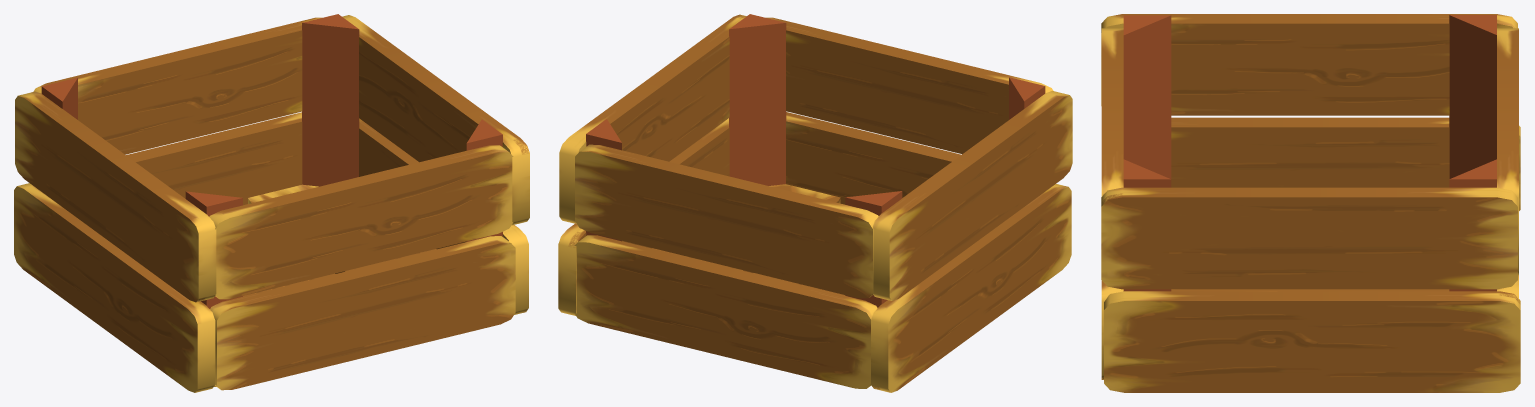
Rendered from Crate.glb.
3 views of the same model, side by side, from view 1: azimuth 30°, elevation 25°; view 2: azimuth 150°, elevation 25°; view 3: azimuth 270°, elevation 25° (orthographic). The views are drawn at different scales.
Visible parts, largest first — view 1: Cube.001, Cube, Cube.006, Cube.004, Cube.005, Cube.014, Cube.003, Cube.007, Cube.002, Cube.008; view 2: Cube.006, Cube.007, Cube, Cube.004, Cube.005, Cube.014, Cube.003, Cube.001, Cube.002, Cube.008; view 3: Cube.003, Cube.002, Cube.004, Cube.005, Cube.014, Cube, Cube.006, Cube.009, Cube.001.
Boxes of the visible parts, x1=… form: Cube.001: x1=210, y1=236, x2=515, y2=390; Cube: x1=209, y1=145, x2=513, y2=299; Cube.006: x1=33, y1=17, x2=322, y2=154; Cube.004: x1=15, y1=91, x2=216, y2=302; Cube.005: x1=14, y1=183, x2=215, y2=392; Cube.014: x1=41, y1=14, x2=502, y2=308; Cube.003: x1=342, y1=15, x2=529, y2=225; Cube.007: x1=126, y1=112, x2=302, y2=205; Cube.002: x1=359, y1=118, x2=528, y2=314; Cube.008: x1=248, y1=184, x2=436, y2=273; Cube.006: x1=575, y1=144, x2=878, y2=298; Cube.007: x1=574, y1=235, x2=877, y2=388; Cube: x1=766, y1=17, x2=1053, y2=154; Cube.004: x1=873, y1=91, x2=1072, y2=300; Cube.005: x1=871, y1=184, x2=1071, y2=392; Cube.014: x1=586, y1=14, x2=1045, y2=307; Cube.003: x1=559, y1=14, x2=746, y2=223; Cube.001: x1=786, y1=112, x2=961, y2=204; Cube.002: x1=558, y1=118, x2=729, y2=315; Cube.008: x1=652, y1=184, x2=840, y2=272; Cube.003: x1=1101, y1=187, x2=1517, y2=289; Cube.002: x1=1104, y1=291, x2=1520, y2=392; Cube.004: x1=1101, y1=14, x2=1517, y2=115; Cube.005: x1=1171, y1=117, x2=1520, y2=210; Cube.014: x1=1123, y1=15, x2=1496, y2=291; Cube: x1=1101, y1=28, x2=1123, y2=196; Cube.006: x1=1497, y1=28, x2=1518, y2=275; Cube.009: x1=1171, y1=289, x2=1449, y2=291; Cube.001: x1=1101, y1=280, x2=1123, y2=379.
Bounding box in the file's own units: 4.39 × 2.28 × 4.24.
2 materials, 1 textured.
